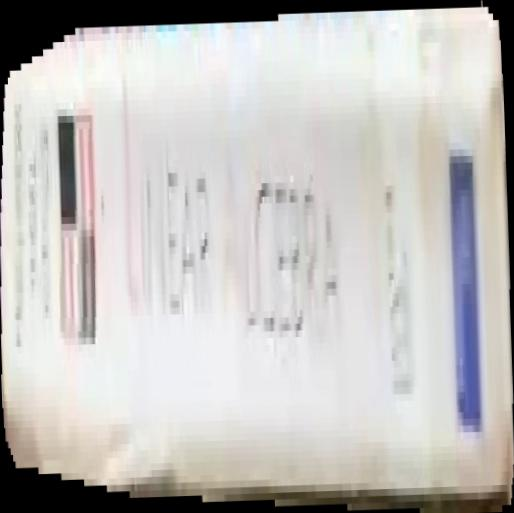flat: (1, 1, 514, 513)
